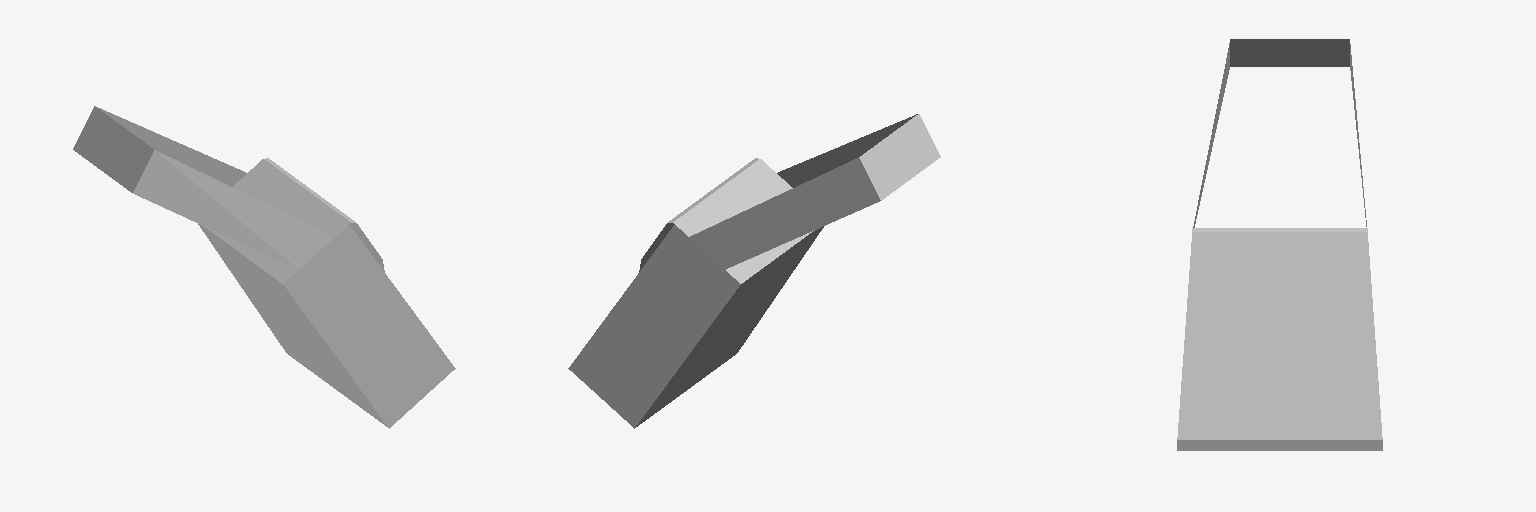
Rendered from bag.obj.
The picture shows the model from 3 angles: view 1: azimuth 30°, elevation 25°; view 2: azimuth 150°, elevation 25°; view 3: azimuth 270°, elevation 25°; orthographic projection.
Parts seen in each view (by area): view 1: Cube; view 2: Cube; view 3: Cube.
Part boxes in pixels (left/top/right/bottom): Cube: left=73, top=106, right=455, bottom=428; Cube: left=568, top=114, right=940, bottom=428; Cube: left=1177, top=39, right=1382, bottom=450.
Bounding box in the file's own units: 0.1519 × 0.1519 × 0.0911.